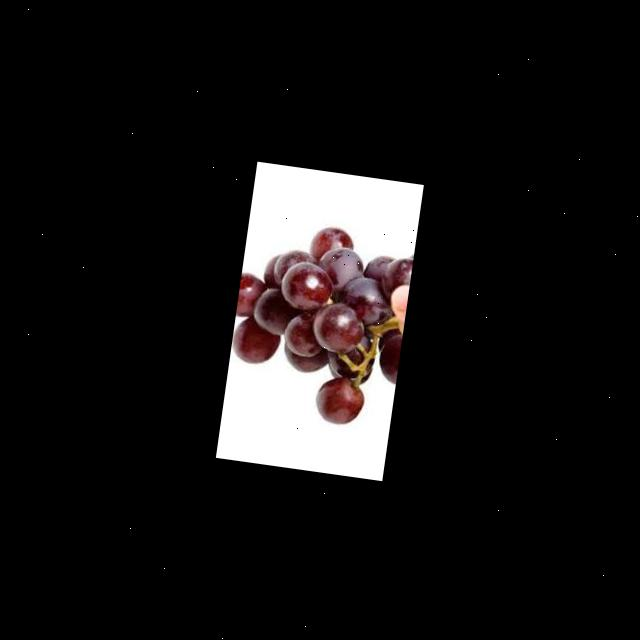grape: (224, 214, 416, 431)
